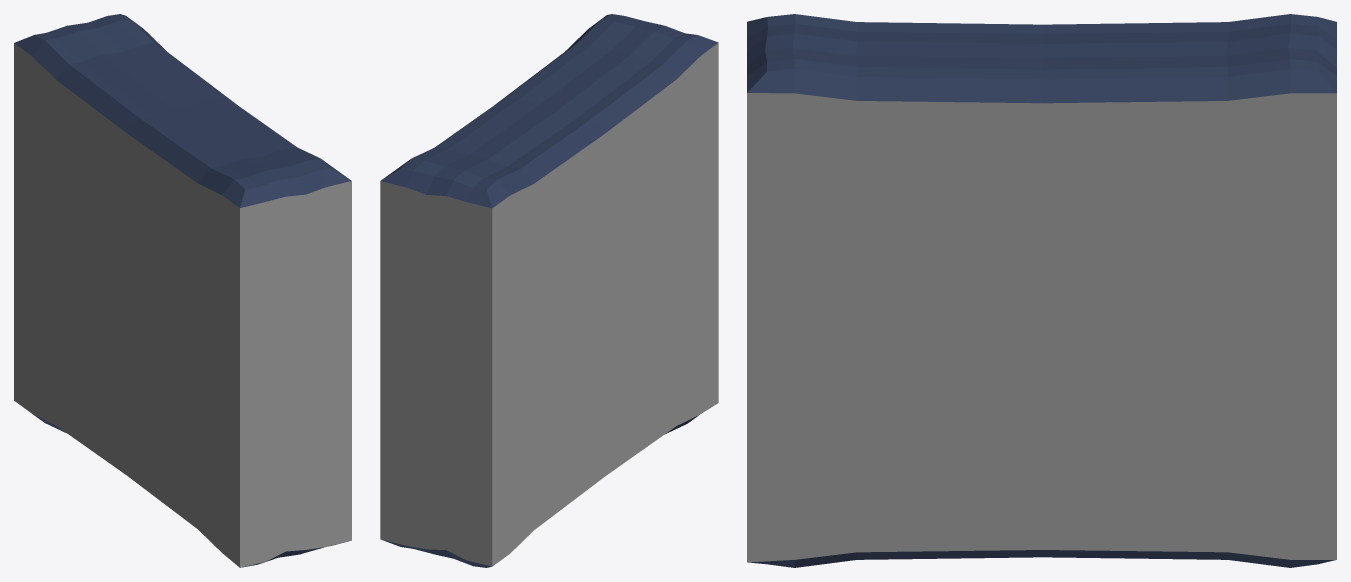
The model's file is Floor_Center.fbx.
3 views of the same model, side by side, from view 1: azimuth 30°, elevation 25°; view 2: azimuth 150°, elevation 25°; view 3: azimuth 270°, elevation 25° (orthographic). The views are drawn at different scales.
Parts seen in each view (by area): view 1: Floor_Center_GEO; view 2: Floor_Center_GEO; view 3: Floor_Center_GEO.
Boxes of the visible parts, bbox=[...] form: Floor_Center_GEO: bbox=[14, 14, 351, 567]; Floor_Center_GEO: bbox=[380, 14, 718, 567]; Floor_Center_GEO: bbox=[747, 14, 1336, 567].
Size of the model in its own units: 260 by 855 by 910.
